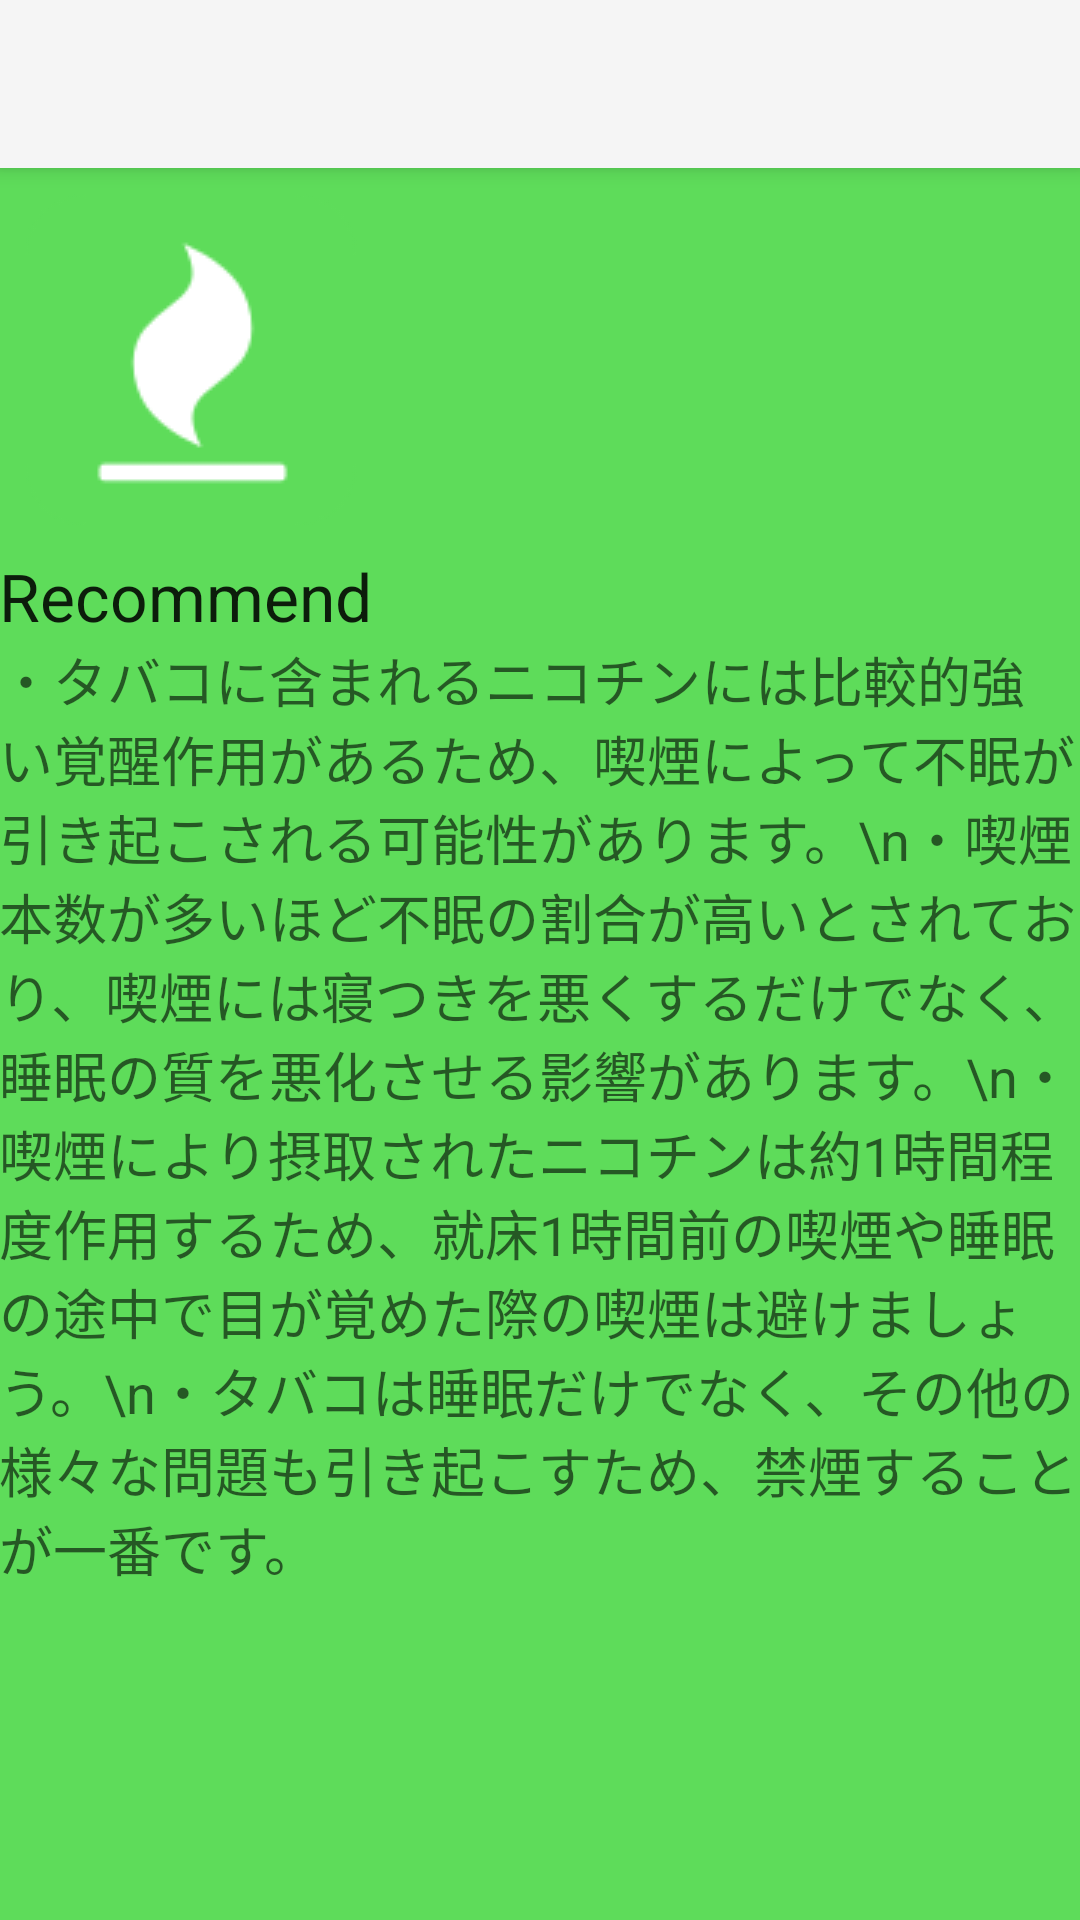

Screen size 1080 x 1920. Icon name, then its box in pixels as (x1, y1, x2, y2):
tabacco top: (97, 243, 288, 483)
